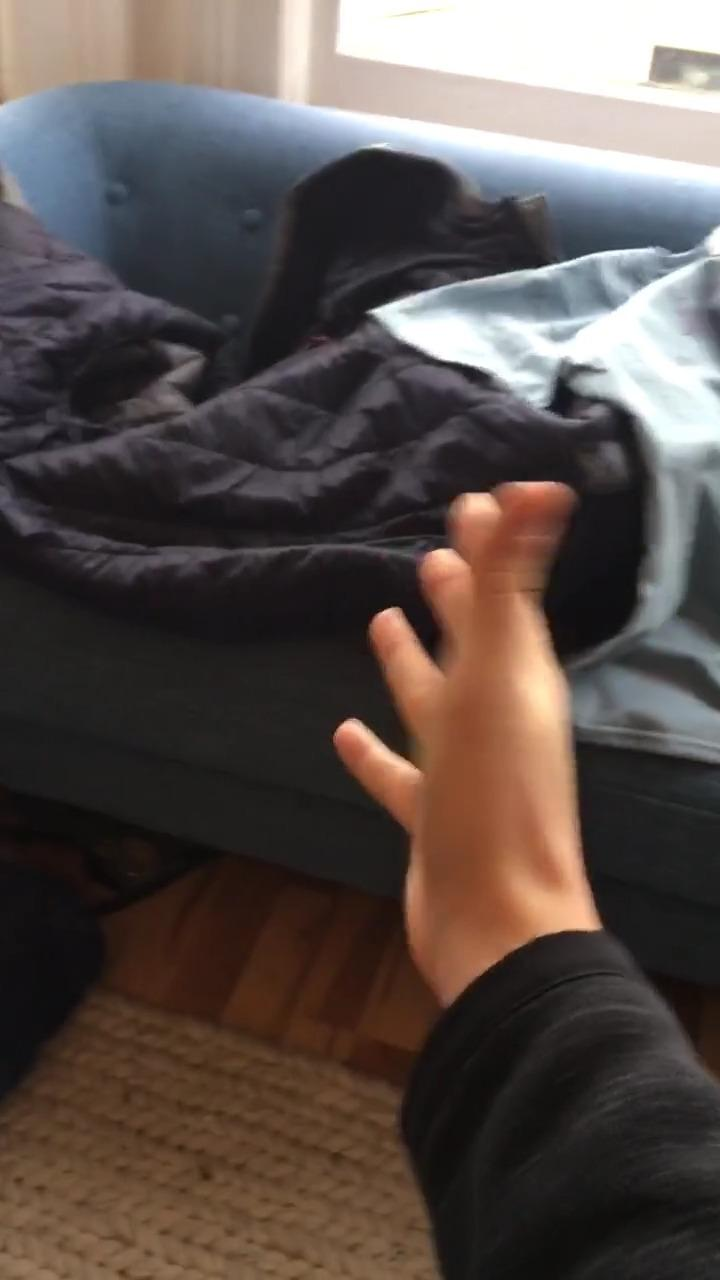Paper: (336, 486, 591, 964)
